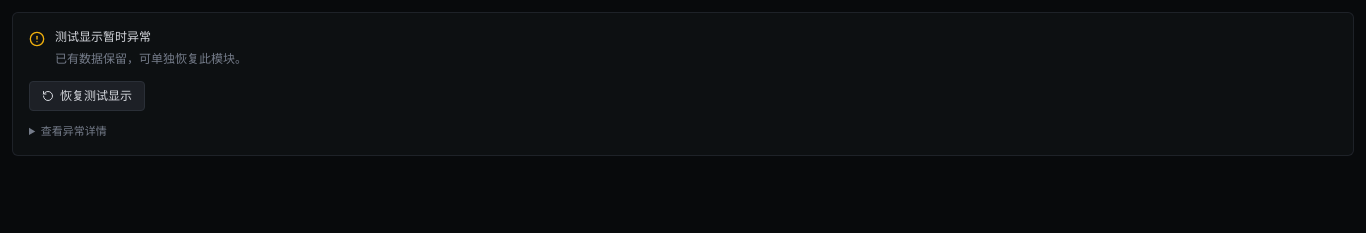
continues to show the original error when diagnostic storage is blocked and records only a bounded history
The width and height of the screenshot is (1366, 233).
Click the heading "查看异常详情". click: click(74, 130)
box: [41,124,107,138]
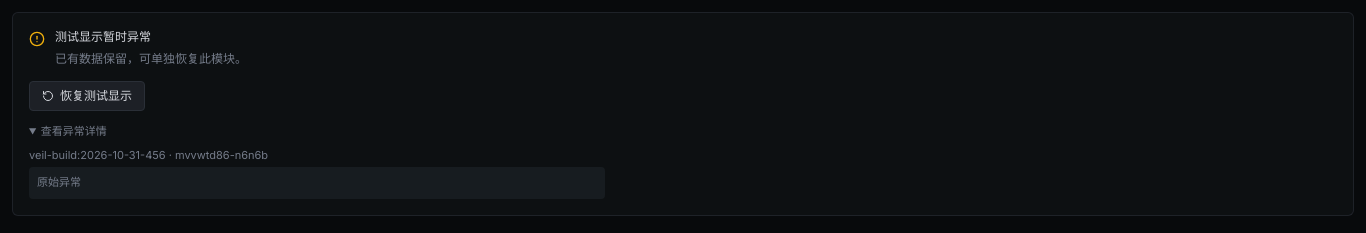
Expected: the message shows "原始异常", [37,176,81,188]
